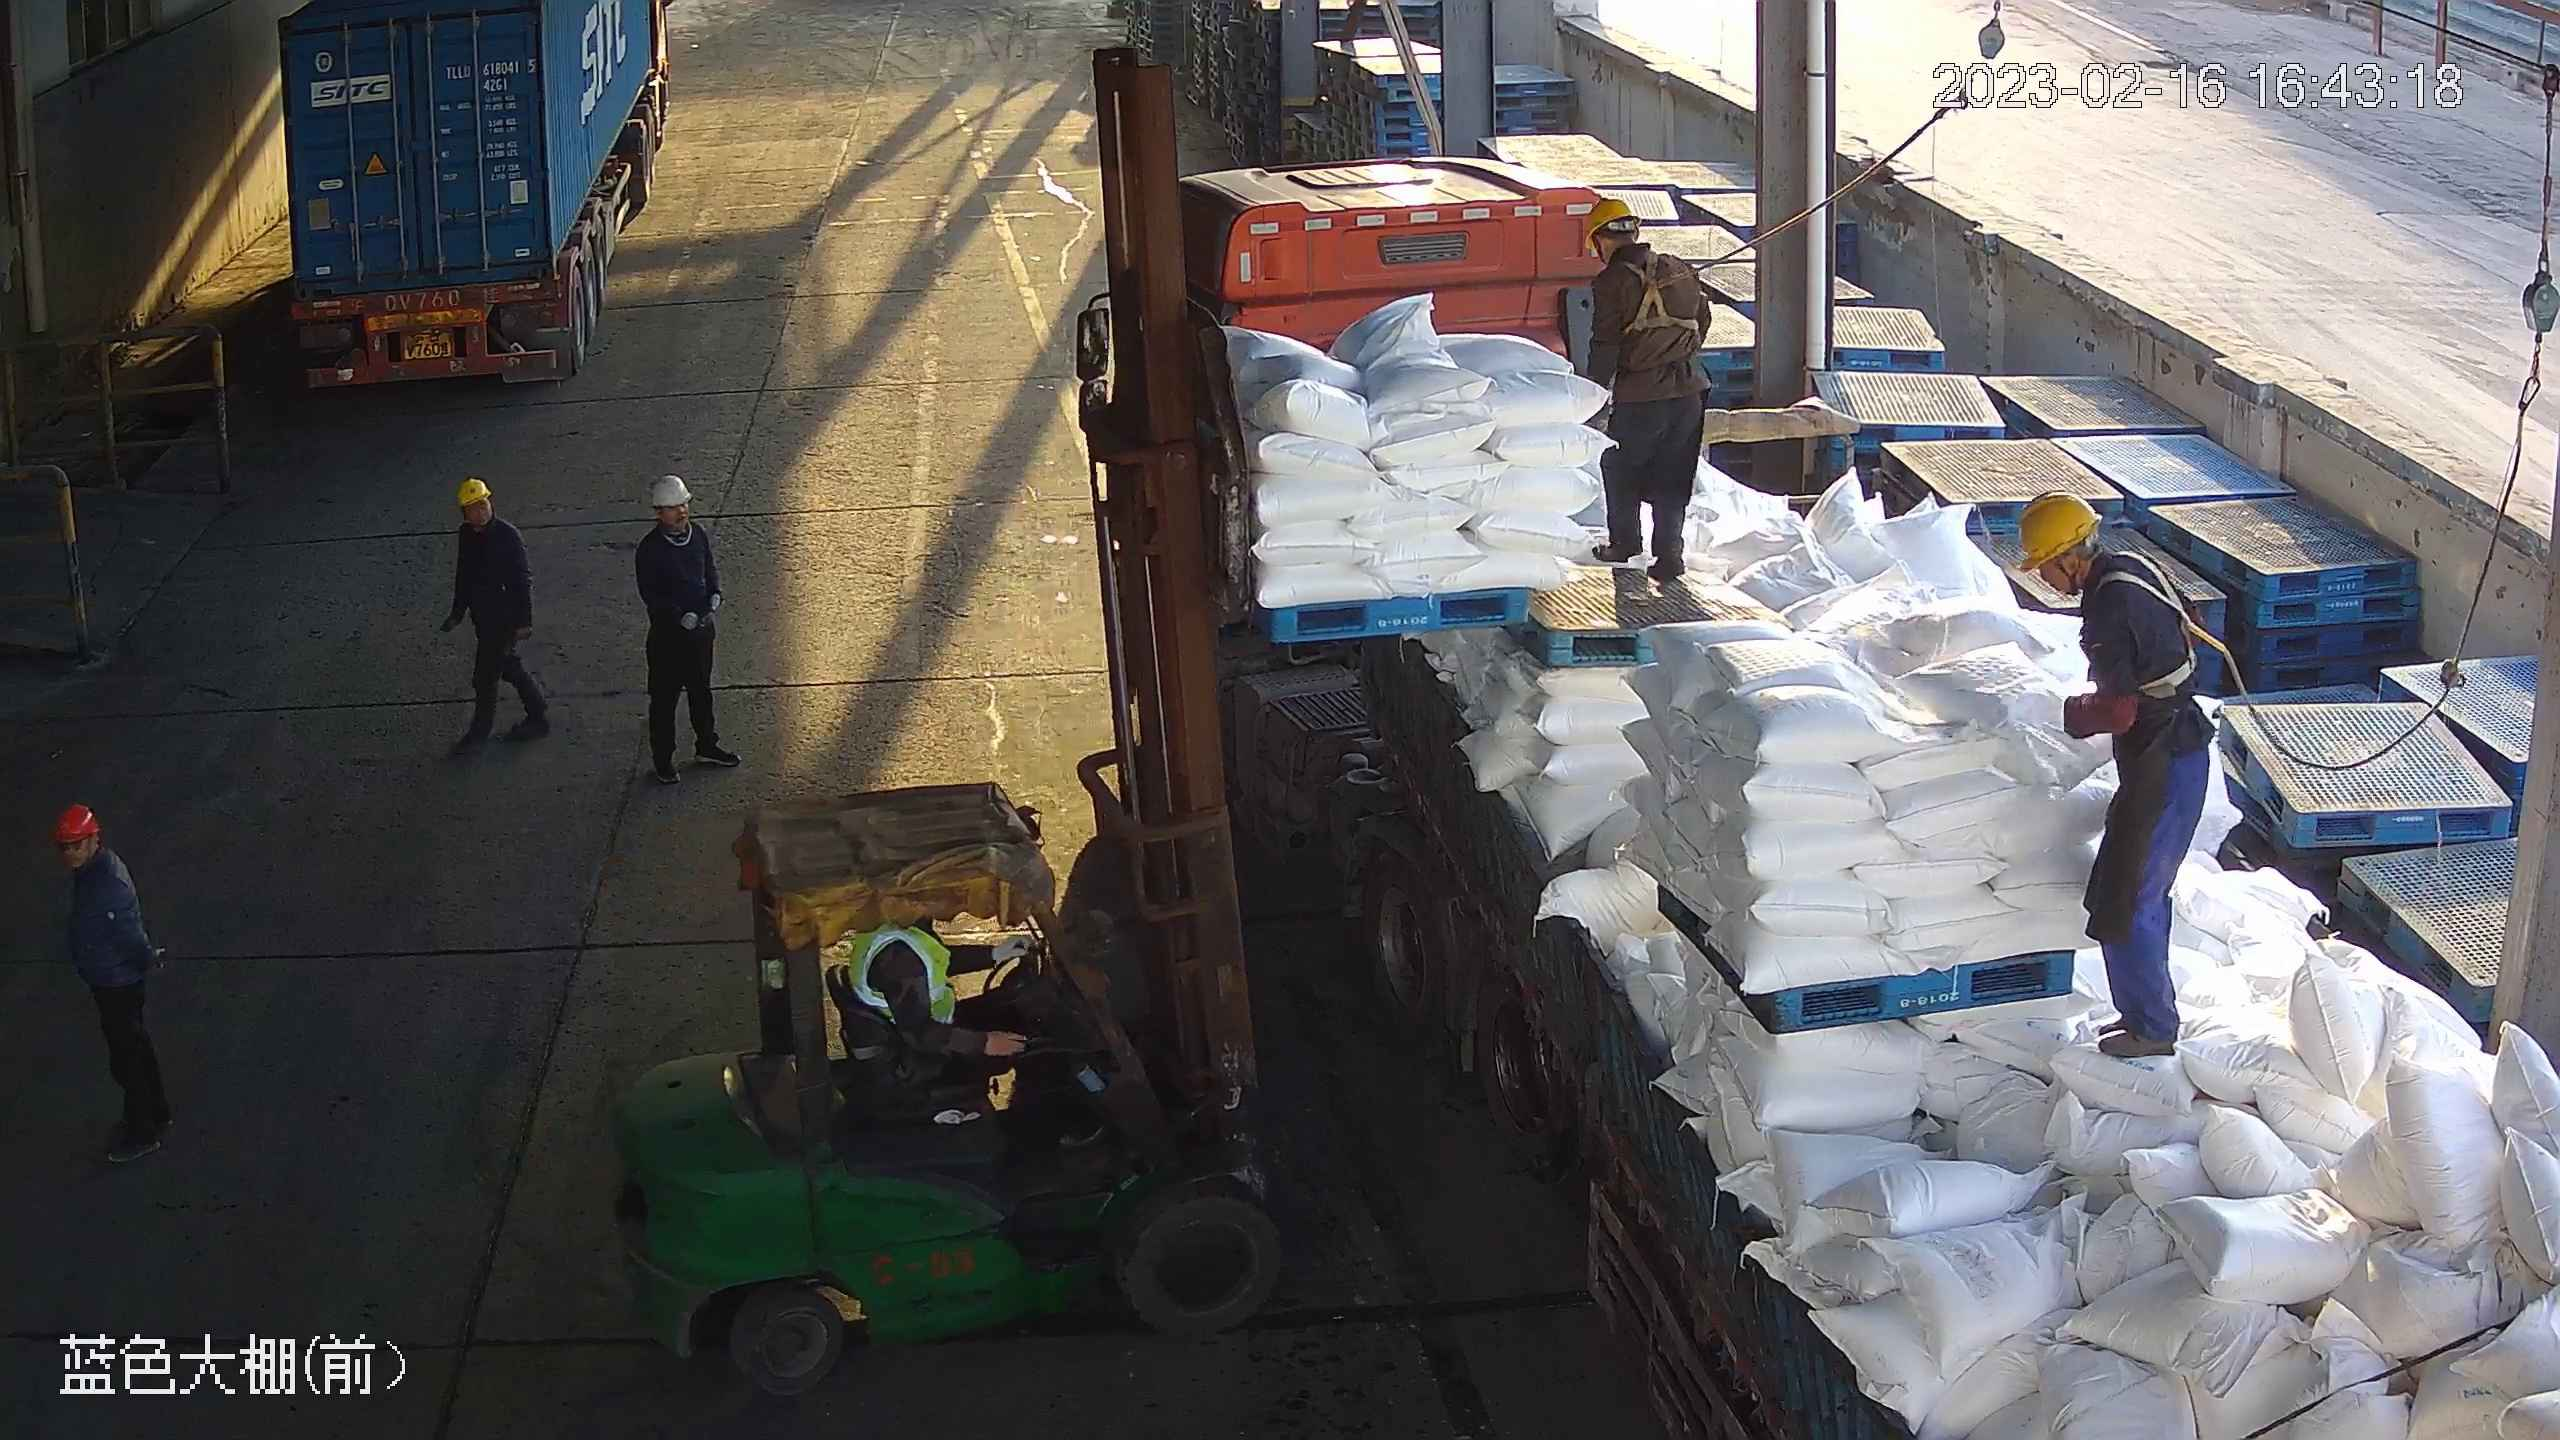belt: (2090, 560, 2214, 699), (1616, 253, 1700, 336)
head: (2021, 497, 2186, 644), (1576, 201, 1700, 301), (51, 808, 139, 904), (644, 472, 721, 564), (446, 478, 527, 564)
helmet: (2014, 492, 2100, 562), (1581, 202, 1637, 243), (37, 808, 95, 843), (653, 471, 697, 508), (449, 472, 493, 504)
people: (2021, 492, 2223, 1064), (848, 918, 1090, 1157), (39, 808, 186, 1174), (1577, 195, 1709, 586), (637, 469, 748, 786), (435, 476, 558, 748)
truck: (1074, 153, 2560, 1440), (262, 1, 677, 397)
